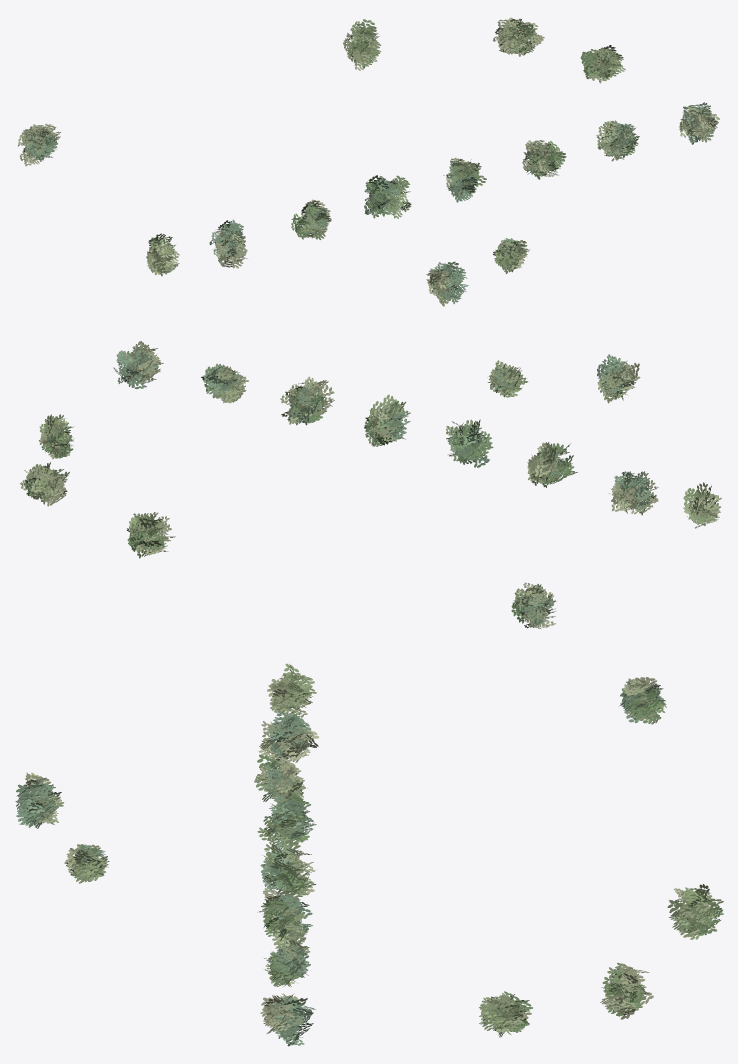
File: campus-tree--4_-3-far.glb
The picture shows the model from 3 angles, top to bottom: view 1: azimuth 30°, elevation 25°; view 2: azimuth 150°, elevation 25°; view 3: azimuth 270°, elevation 25°; orthographic projection. The views are drawn at different scales.
Visible parts, largest first — view 1: Campus leaf canopy; view 2: Campus leaf canopy; view 3: Campus leaf canopy.
Boxes of the visible parts, left/top/right/bottom form: Campus leaf canopy: left=18, top=17, right=719, bottom=306; Campus leaf canopy: left=19, top=341, right=721, bottom=629; Campus leaf canopy: left=15, top=663, right=723, bottom=1046.
Bounding box in the file's own units: 83.55 × 8.18 × 71.9.
Materials: 1 (1 with a texture image).
